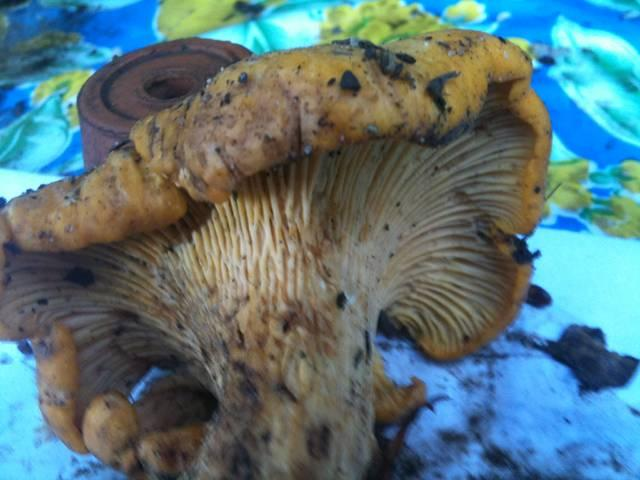edible_mushroom: (0, 26, 554, 479)
